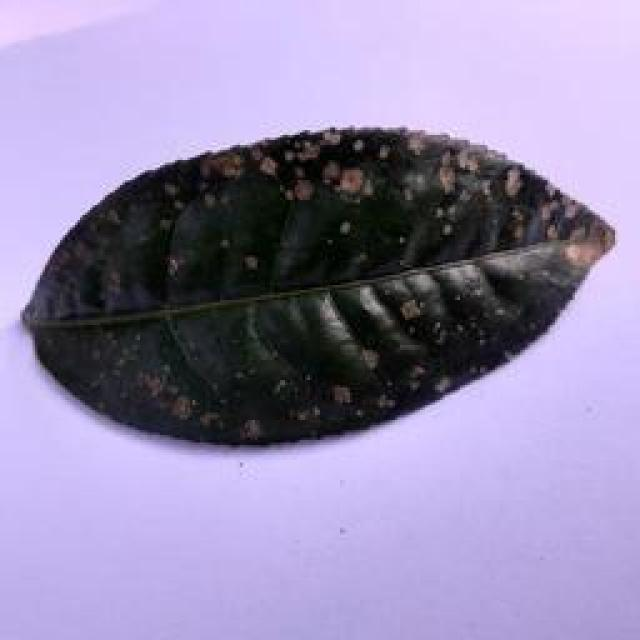Algal Leaf Spot: (24, 124, 614, 446)
